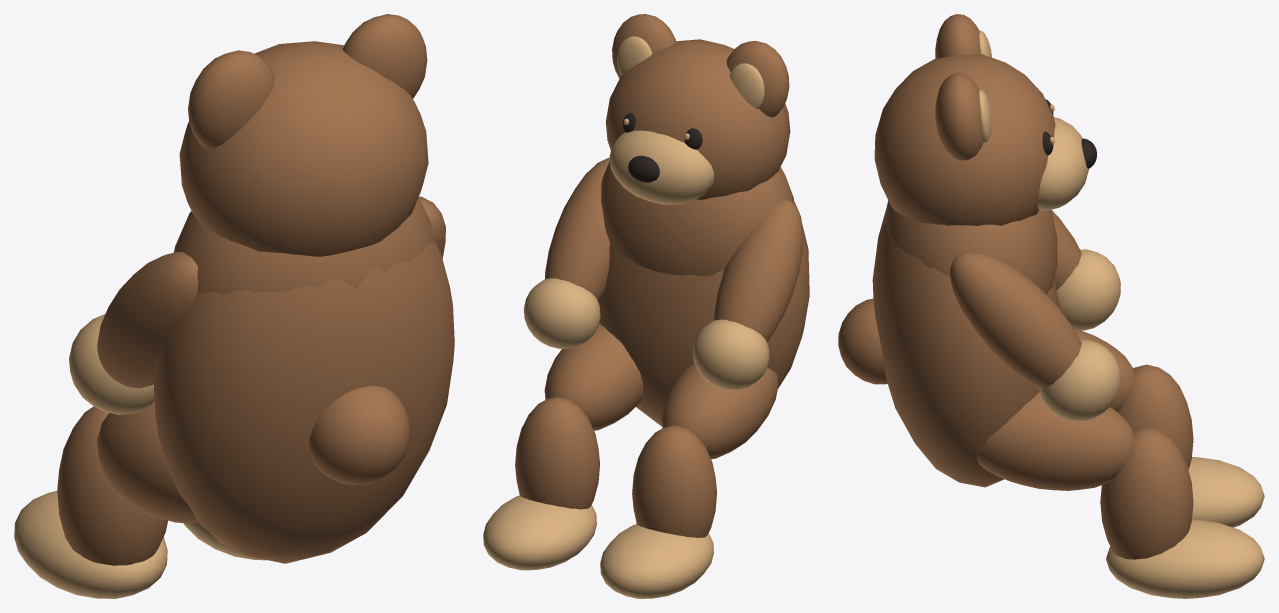
The model's file is bear-player-sitting.glb.
3 renders of one model, left to right at view 1: azimuth 30°, elevation 25°; view 2: azimuth 150°, elevation 25°; view 3: azimuth 270°, elevation 25°, orthographic. The views are drawn at different scales.
Visible parts, largest first — view 1: Body, Head, Chest, LeftShin, LeftArmMesh, Tail, LeftFoot, LeftLegMesh, LeftEar, RightEar, LeftPaw, RightArmMesh (+1 smaller); view 2: Head, Body, Chest, LeftArmMesh, RightShin, LeftShin, LeftLegMesh, RightLegMesh, RightFoot, LeftFoot, RightArmMesh, Muzzle (+7 smaller); view 3: Body, Head, RightArmMesh, RightLegMesh, RightShin, RightFoot, Chest, RightPaw, LeftShin, LeftFoot, LeftPaw, RightEar (+5 smaller).
Part boxes in pixels (box(x1,y1,x2,y2)): Body: box(153, 240, 454, 563); Head: box(179, 41, 428, 256); Chest: box(174, 197, 433, 294); LeftShin: box(57, 406, 167, 565); LeftArmMesh: box(97, 252, 198, 388); Tail: box(309, 385, 410, 484); LeftFoot: box(14, 491, 167, 598); LeftLegMesh: box(97, 402, 199, 523); LeftEar: box(188, 50, 274, 148); RightEar: box(342, 14, 427, 98); LeftPaw: box(69, 314, 154, 414); RightArmMesh: box(418, 196, 445, 258); Head: box(606, 39, 790, 199); Body: box(598, 201, 809, 426); Chest: box(601, 161, 794, 276); LeftArmMesh: box(714, 199, 803, 341); RightShin: box(515, 396, 599, 509); LeftShin: box(632, 425, 716, 537); LeftLegMesh: box(661, 363, 778, 459); RightLegMesh: box(544, 324, 643, 430); RightFoot: box(483, 495, 596, 570); LeftFoot: box(600, 524, 713, 598); RightArmMesh: box(545, 157, 609, 300); Muzzle: box(609, 130, 714, 204); Body: box(872, 210, 1059, 487); Head: box(874, 54, 1055, 225); RightArmMesh: box(950, 253, 1081, 388); RightLegMesh: box(976, 392, 1133, 490); RightShin: box(1100, 427, 1193, 559); RightFoot: box(1106, 519, 1264, 598); Chest: box(882, 200, 1057, 294); RightPaw: box(1039, 339, 1120, 421); LeftShin: box(1117, 364, 1193, 469); LeftFoot: box(1188, 457, 1264, 527); LeftPaw: box(1056, 249, 1120, 330); RightEar: box(935, 73, 983, 160).
Bounding box in the file's own units: 1.09 × 2.07 × 1.56.
